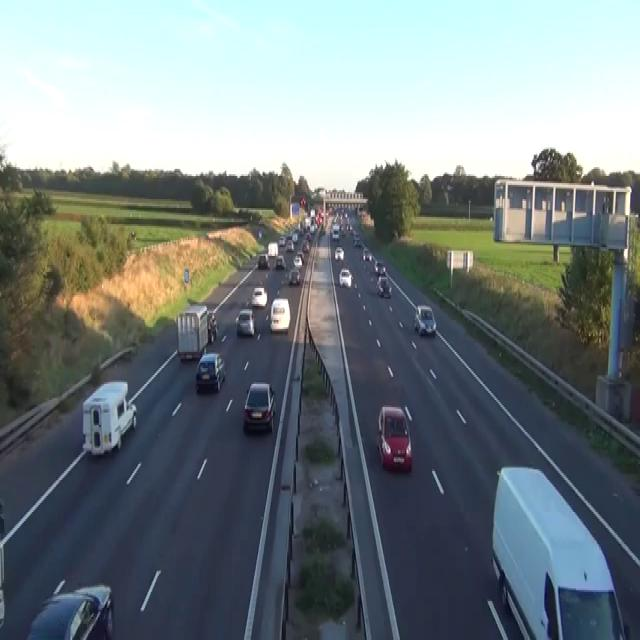Car: (26, 583, 114, 638), (376, 405, 412, 471), (243, 380, 276, 432), (195, 352, 225, 393), (269, 297, 291, 332), (413, 304, 436, 336), (0, 498, 5, 634), (235, 308, 255, 336), (207, 311, 218, 343), (376, 275, 391, 297), (251, 286, 267, 306), (338, 267, 352, 288), (0, 583, 5, 635), (288, 266, 300, 284), (0, 498, 5, 540), (257, 252, 270, 268), (374, 260, 385, 276), (334, 246, 344, 262), (377, 272, 387, 288), (275, 254, 285, 268), (382, 284, 392, 297), (362, 247, 371, 261), (293, 254, 302, 267), (285, 238, 294, 251), (378, 268, 387, 281), (331, 226, 339, 240), (353, 235, 361, 245), (301, 242, 309, 252), (296, 251, 304, 261), (291, 231, 298, 242), (357, 208, 364, 219), (278, 235, 285, 245), (305, 231, 311, 242), (338, 226, 344, 236), (257, 228, 262, 238), (309, 224, 314, 233)
Truck: (490, 464, 629, 638), (81, 379, 137, 457), (176, 302, 208, 361)
